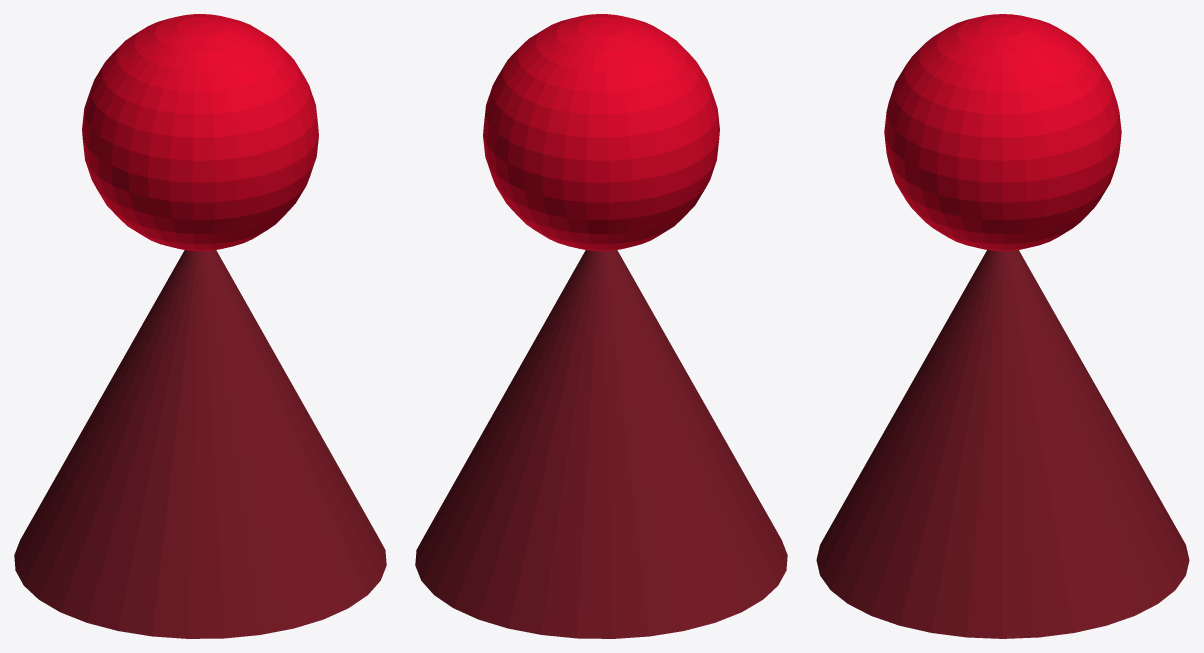
File: Agent1.fbx
The picture shows the model from 3 angles, left to right: view 1: azimuth 30°, elevation 25°; view 2: azimuth 150°, elevation 25°; view 3: azimuth 270°, elevation 25°; orthographic projection.
Parts seen in each view (by area): view 1: Cone, Sphere; view 2: Cone, Sphere; view 3: Cone, Sphere.
Boxes of the visible parts, box(x1,y1,x2,y2) form: Cone: box(14, 250, 386, 638); Sphere: box(82, 14, 318, 251); Cone: box(415, 250, 787, 638); Sphere: box(483, 14, 719, 251); Cone: box(816, 250, 1189, 638); Sphere: box(884, 14, 1121, 251).
Size of the model in its own units: 314 by 497 by 314.
